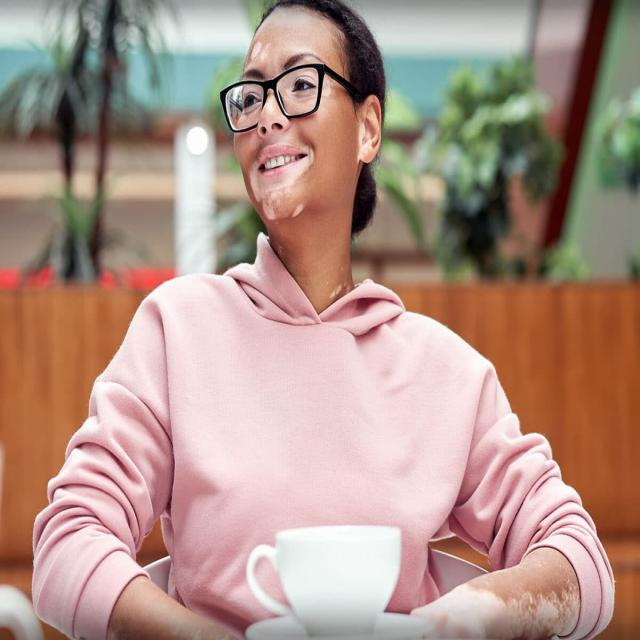vitiligo: (236, 33, 350, 220), (430, 552, 579, 640)
